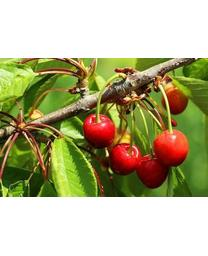cherry: (154, 130, 188, 167), (82, 112, 116, 147), (137, 151, 168, 188), (108, 142, 140, 176), (160, 86, 189, 114)
